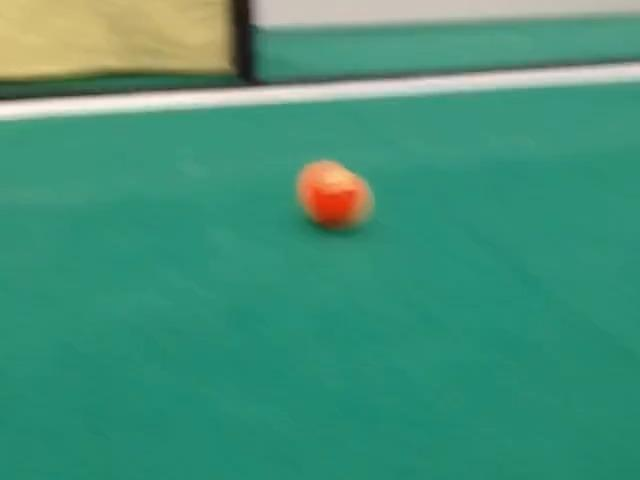Ball: (296, 160, 373, 229)
